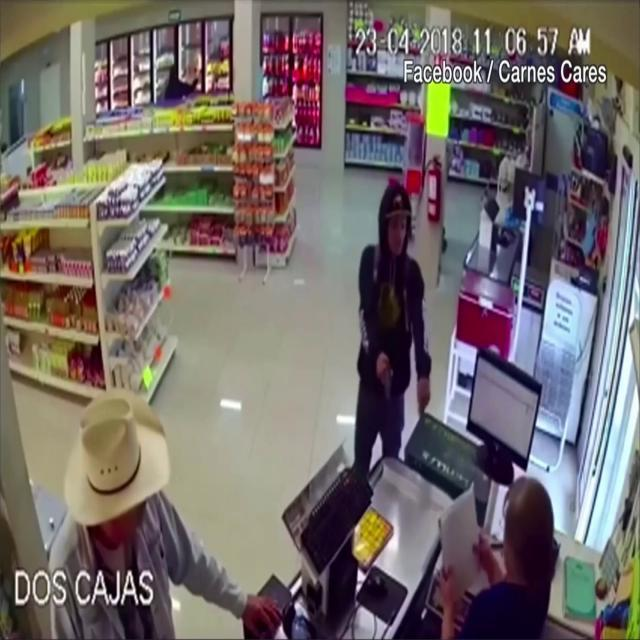gun: (377, 358, 394, 400)
